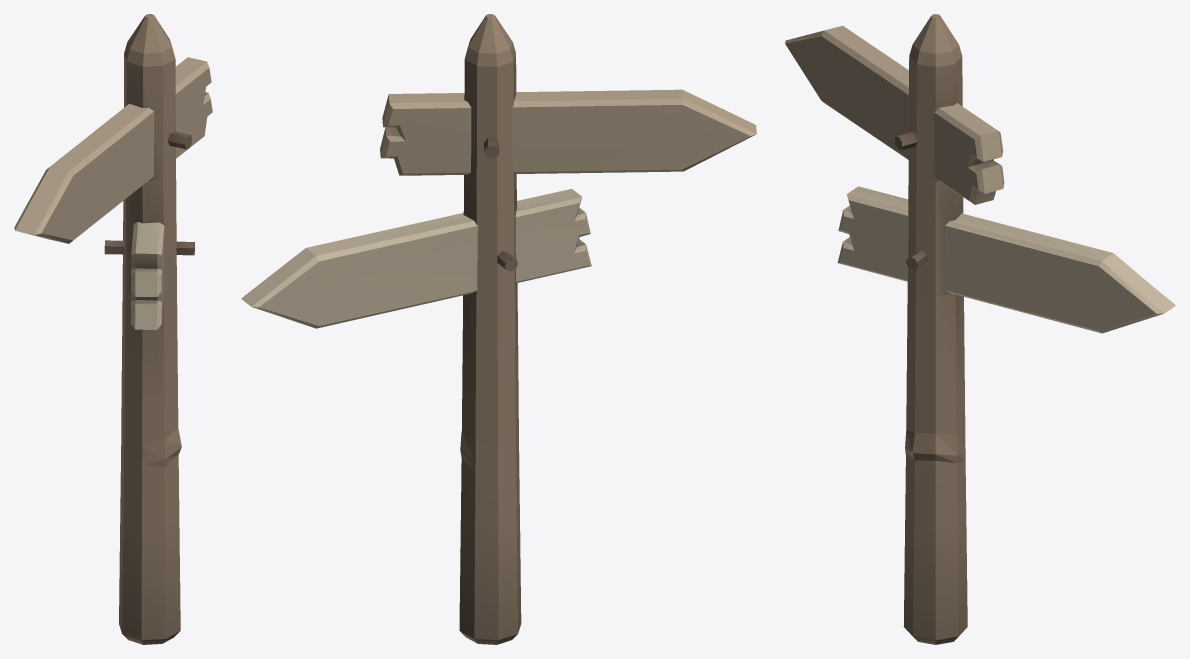
The model's file is sign.glb.
3 views of the same model, side by side, from view 1: azimuth 30°, elevation 25°; view 2: azimuth 150°, elevation 25°; view 3: azimuth 270°, elevation 25° (orthographic).
Visible parts, largest first — view 1: sign; view 2: sign; view 3: sign.
Part boxes in pixels (box(x1,y1,x2,y2)): sign: box(14, 14, 212, 644); sign: box(241, 14, 756, 644); sign: box(785, 14, 1175, 644).
Bounding box in the file's own units: 1.48 × 2.6 × 1.49.
